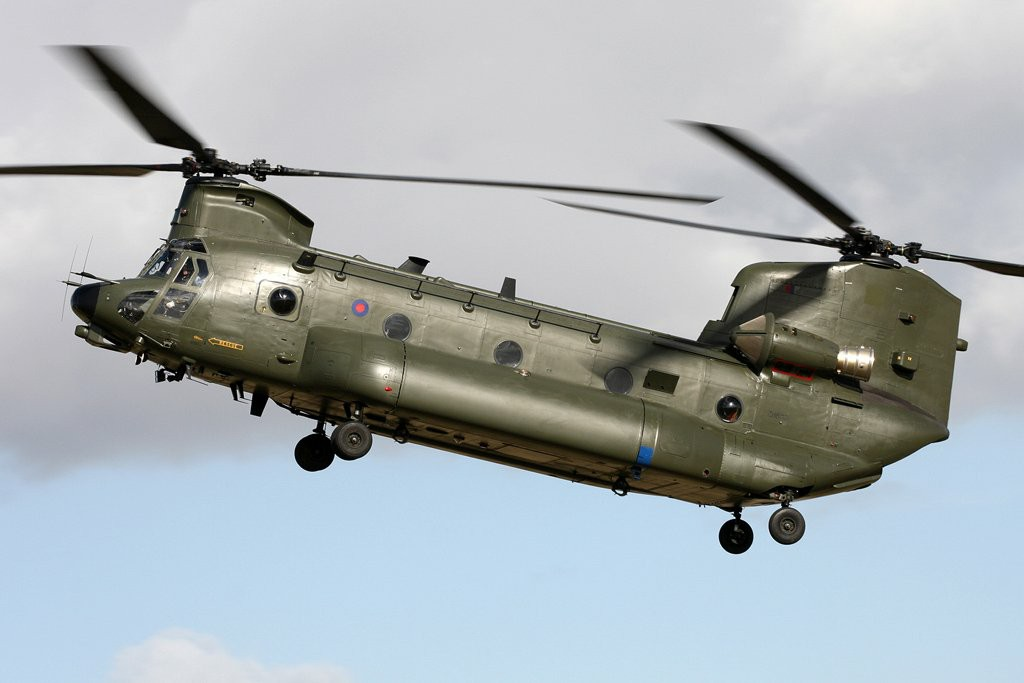chinook: (17, 51, 1008, 561)
